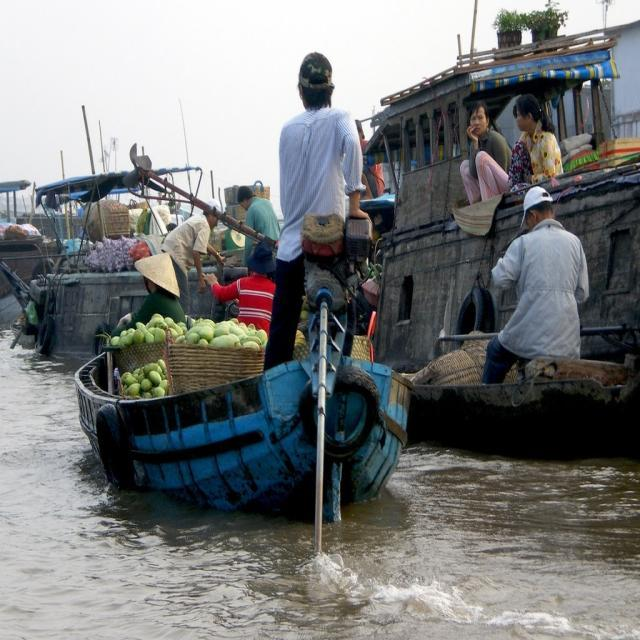boat: (72, 314, 420, 513)
